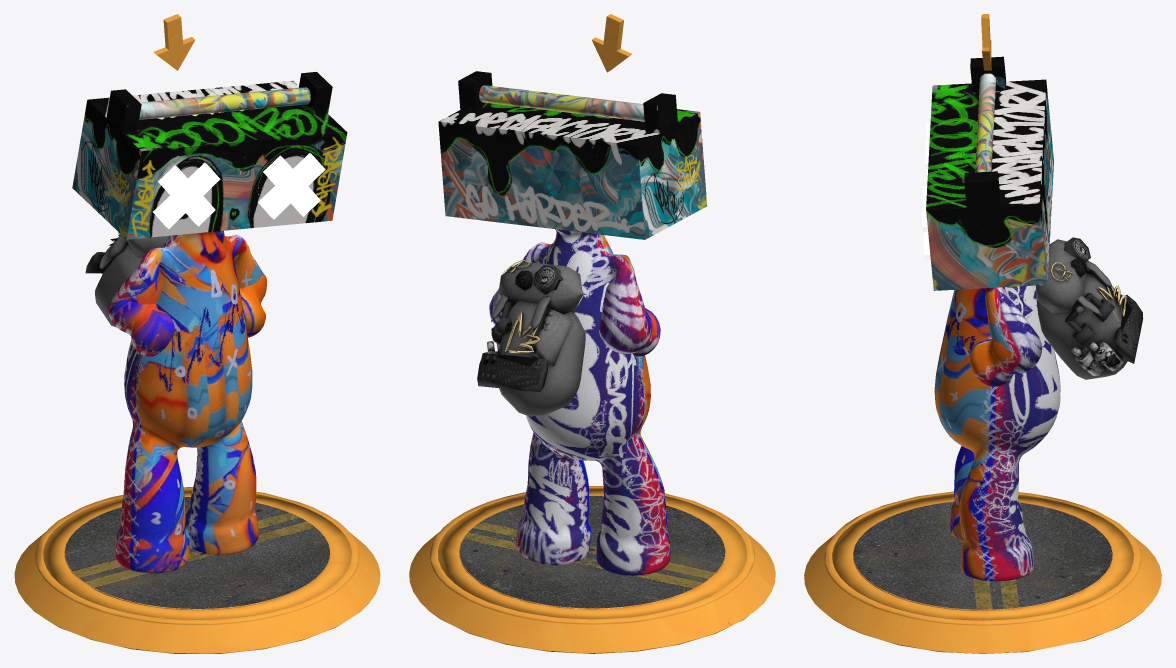
3 views of the same model, side by side, from view 1: azimuth 30°, elevation 25°; view 2: azimuth 150°, elevation 25°; view 3: azimuth 270°, elevation 25° (orthographic). The views are drawn at different scales.
Parts seen in each view (by area): view 1: BBody; view 2: BBody; view 3: BBody.
Part boxes in pixels (box(x1,y1,x2,y2)): BBody: box(14, 14, 380, 653); BBody: box(409, 14, 775, 653); BBody: box(804, 14, 1161, 653).
Bounding box in the file's own units: 1.45 × 2.47 × 1.45.
6 materials, 5 textured.
